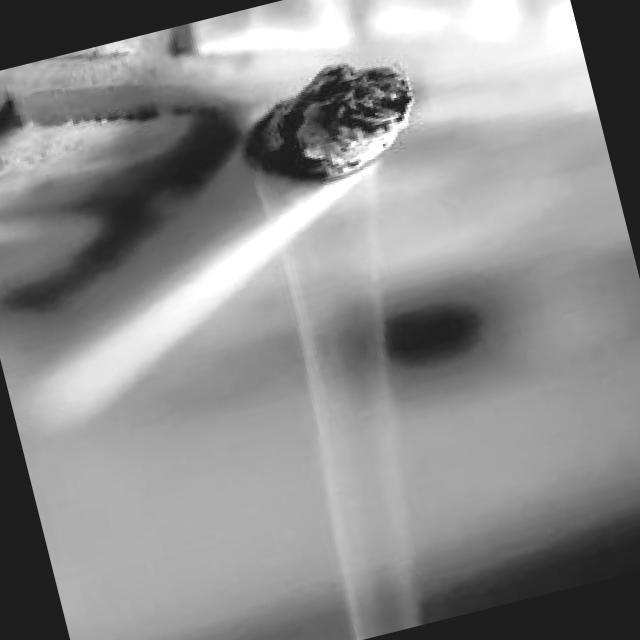smoke: (0, 31, 481, 454)
